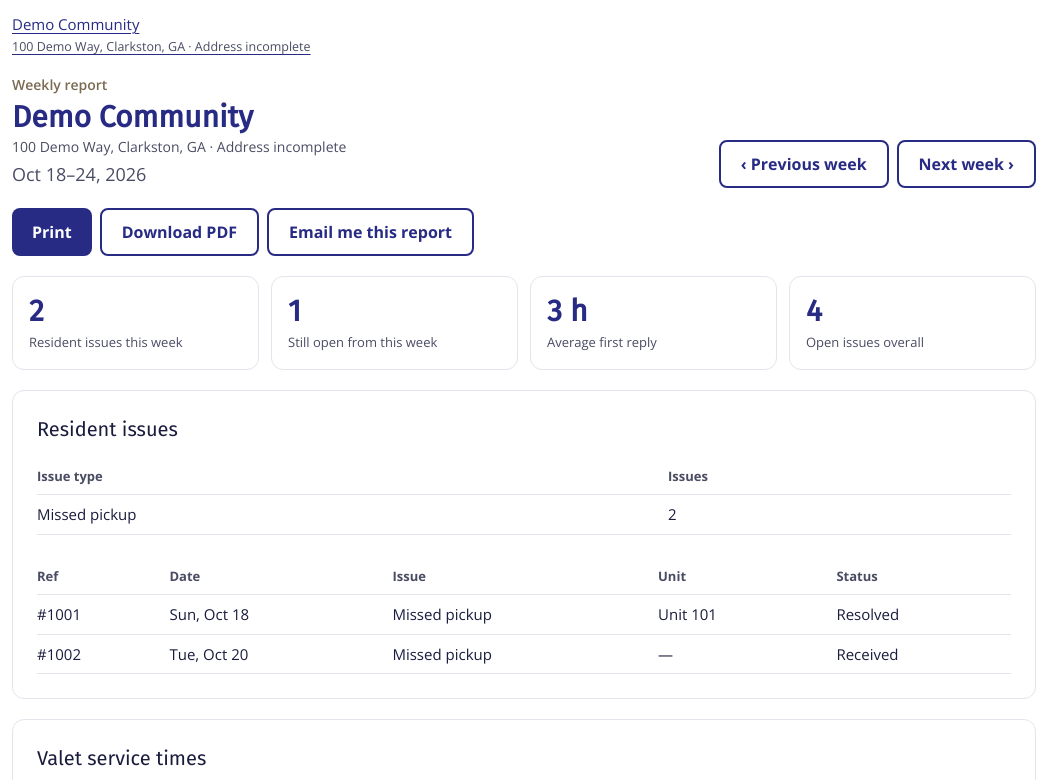
Test: WeeklyReportPage › emails the report to the signed-in person and says where it went
Click the button "Email me this report" at (370,232), box [267, 208, 474, 256]
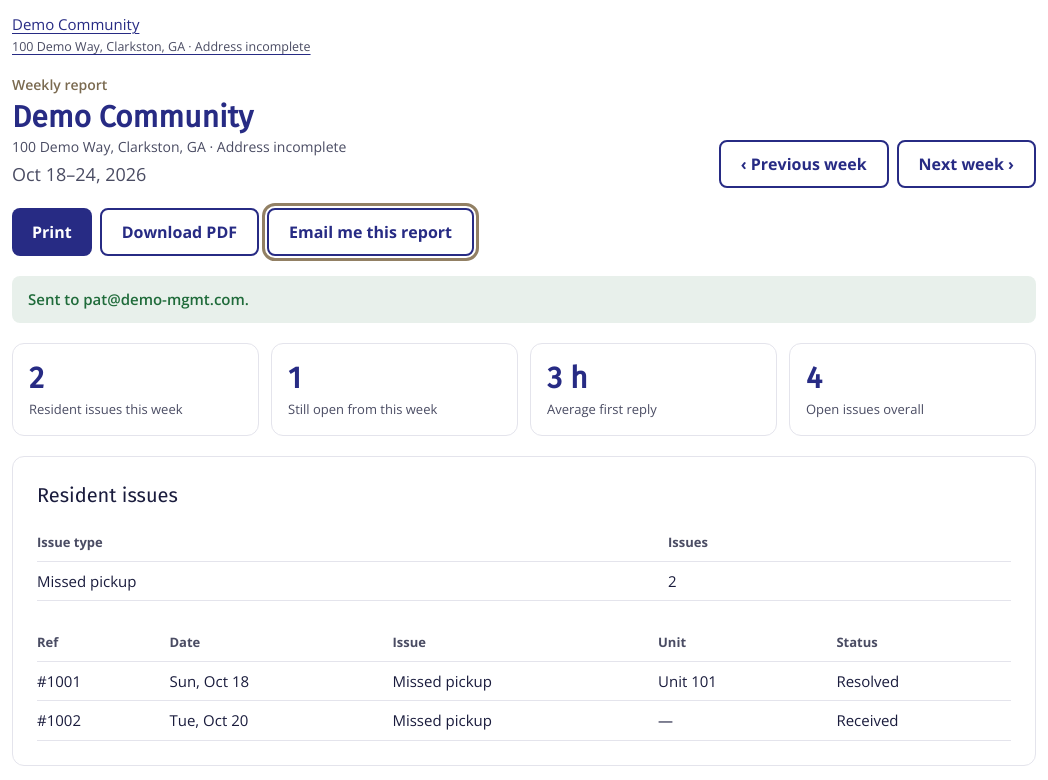
Check: the text "Sent to pat@demo-mgmt.com." is shown, box [12, 276, 1036, 323]
